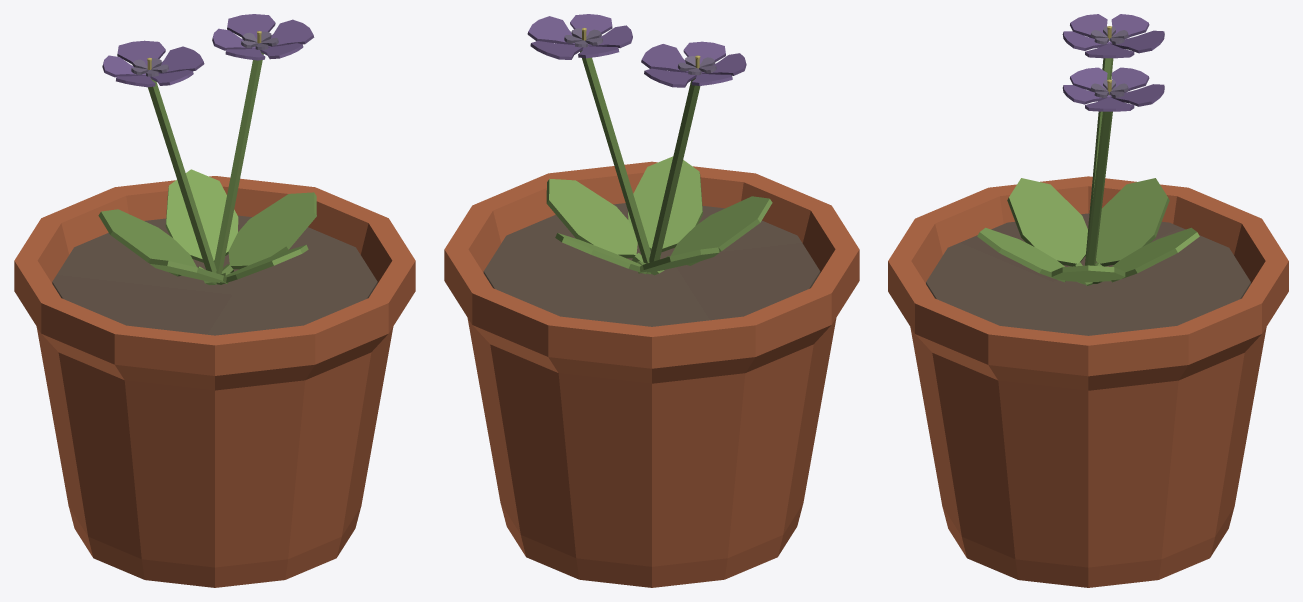
File: pansy.glb
3 renders of one model, left to right at view 1: azimuth 30°, elevation 25°; view 2: azimuth 150°, elevation 25°; view 3: azimuth 270°, elevation 25°, orthographic. The views are drawn at different scales.
Visible parts, largest first — view 1: pansy/review-terra-vessel, pansy/review-rooted-soil, pansy/leaf-002, pansy/leaf-004, pansy/leaf-006, pansy/petiole-024, pansy/petiole-011, pansy/pansy-petal-013, pansy/pansy-petal-026, pansy/leaf-008, pansy/leaf-010, pansy/pansy-petal-025 (+3 smaller); view 2: pansy/review-terra-vessel, pansy/review-rooted-soil, pansy/leaf-002, pansy/leaf-010, pansy/leaf-008, pansy/petiole-024, pansy/petiole-011, pansy/leaf-006, pansy/pansy-petal-025, pansy/pansy-petal-012, pansy/leaf-004, pansy/pansy-petal-013 (+5 smaller); view 3: pansy/review-terra-vessel, pansy/review-rooted-soil, pansy/leaf-008, pansy/leaf-006, pansy/leaf-004, pansy/leaf-010, pansy/petiole-024, pansy/leaf-002, pansy/pansy-petal-026, pansy/pansy-petal-013, pansy/petiole-011, pansy/pansy-petal-014 (+4 smaller).
Boxes of the visible parts, <box> form: pansy/review-terra-vessel: <box>14,176,415,587</box>; pansy/review-rooted-soil: <box>52,215,377,335</box>; pansy/leaf-002: <box>228,192,316,269</box>; pansy/leaf-004: <box>165,169,238,262</box>; pansy/leaf-006: <box>98,209,196,276</box>; pansy/petiole-024: <box>214,51,263,274</box>; pansy/petiole-011: <box>148,78,216,272</box>; pansy/pansy-petal-013: <box>117,40,165,66</box>; pansy/pansy-petal-026: <box>227,14,275,39</box>; pansy/leaf-008: <box>149,258,228,283</box>; pansy/leaf-010: <box>220,244,308,284</box>; pansy/pansy-petal-025: <box>268,19,314,47</box>; pansy/review-terra-vessel: <box>444,161,859,587</box>; pansy/review-rooted-soil: <box>483,203,820,326</box>; pansy/leaf-002: <box>546,178,637,258</box>; pansy/leaf-010: <box>628,156,702,251</box>; pansy/leaf-008: <box>671,196,772,265</box>; pansy/petiole-024: <box>580,50,650,263</box>; pansy/petiole-011: <box>649,78,700,262</box>; pansy/leaf-006: <box>638,247,719,273</box>; pansy/pansy-petal-025: <box>527,16,574,44</box>; pansy/pansy-petal-012: <box>641,44,688,72</box>; pansy/leaf-004: <box>555,233,646,274</box>; pansy/pansy-petal-013: <box>644,68,696,87</box>; pansy/review-terra-vessel: <box>888,176,1288,587</box>; pansy/review-rooted-soil: <box>926,213,1250,335</box>; pansy/leaf-008: <box>1007,178,1087,266</box>; pansy/leaf-006: <box>1095,178,1169,266</box>; pansy/leaf-004: <box>1111,227,1199,282</box>; pansy/leaf-010: <box>977,227,1065,282</box>; pansy/petiole-024: <box>1085,95,1112,265</box>; pansy/leaf-002: <box>1051,265,1125,282</box>; pansy/pansy-petal-026: <box>1110,84,1164,106</box>; pansy/pansy-petal-013: <box>1110,30,1164,53</box>; pansy/petiole-011: <box>1085,58,1113,265</box>; pansy/pansy-petal-014: <box>1109,14,1149,43</box>.
Size of the model in its own units: 0.19 by 0.2488 by 0.19.
Materials: 6 (6 with a texture image).
